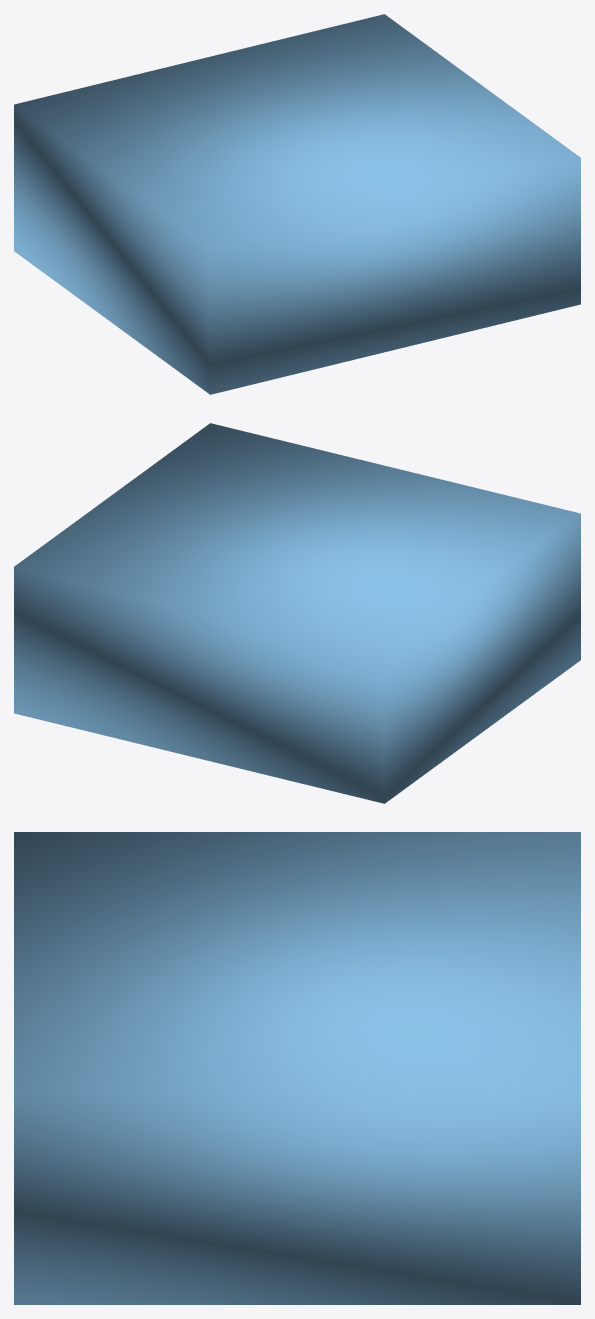
Rendered from gym.gltf.
3 renders of one model, top to bottom at view 1: azimuth 30°, elevation 25°; view 2: azimuth 150°, elevation 25°; view 3: azimuth 270°, elevation 25°, orthographic. The views are drawn at different scales.
Visible parts, largest first — view 1: 立方体.038; view 2: 立方体.038; view 3: 立方体.038.
Part boxes in pixels (box(x1,y1,x2,y2)): 立方体.038: box(14, 14, 580, 394); 立方体.038: box(14, 423, 580, 803); 立方体.038: box(14, 832, 580, 1304).
Bounding box in the file's own units: 28.61 × 10.81 × 26.25.
